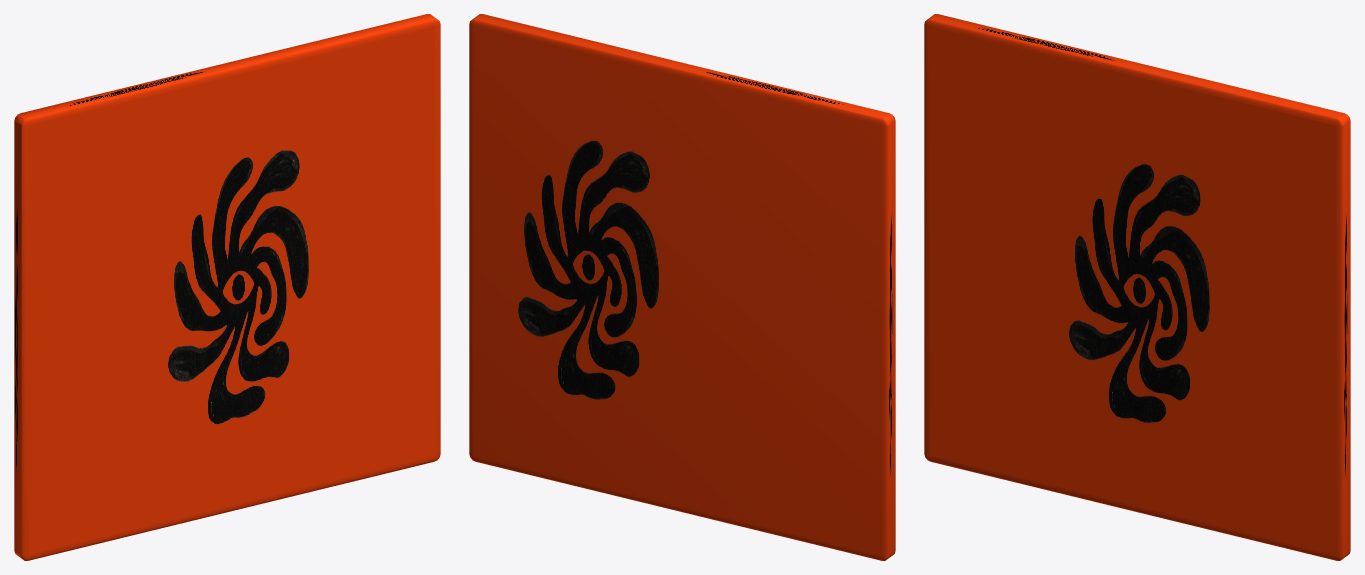
Rendered from IAMWE_PICTURE.glb.
The picture shows the model from 3 angles, left to right: view 1: azimuth 30°, elevation 25°; view 2: azimuth 150°, elevation 25°; view 3: azimuth 330°, elevation 25°; orthographic projection.
Visible parts, largest first — view 1: PICTRUE-Mat (×2); view 2: PICTRUE-Mat; view 3: PICTRUE-Mat (×2).
Part boxes in pixels (box(x1,y1,x2,y2)): PICTRUE-Mat (×2): box(14, 14, 440, 560); PICTRUE-Mat: box(469, 14, 895, 560); PICTRUE-Mat (×2): box(924, 14, 1350, 560).
Size of the model in its own units: 2 by 2.02 by 0.0751.
1 material, 1 textured.
